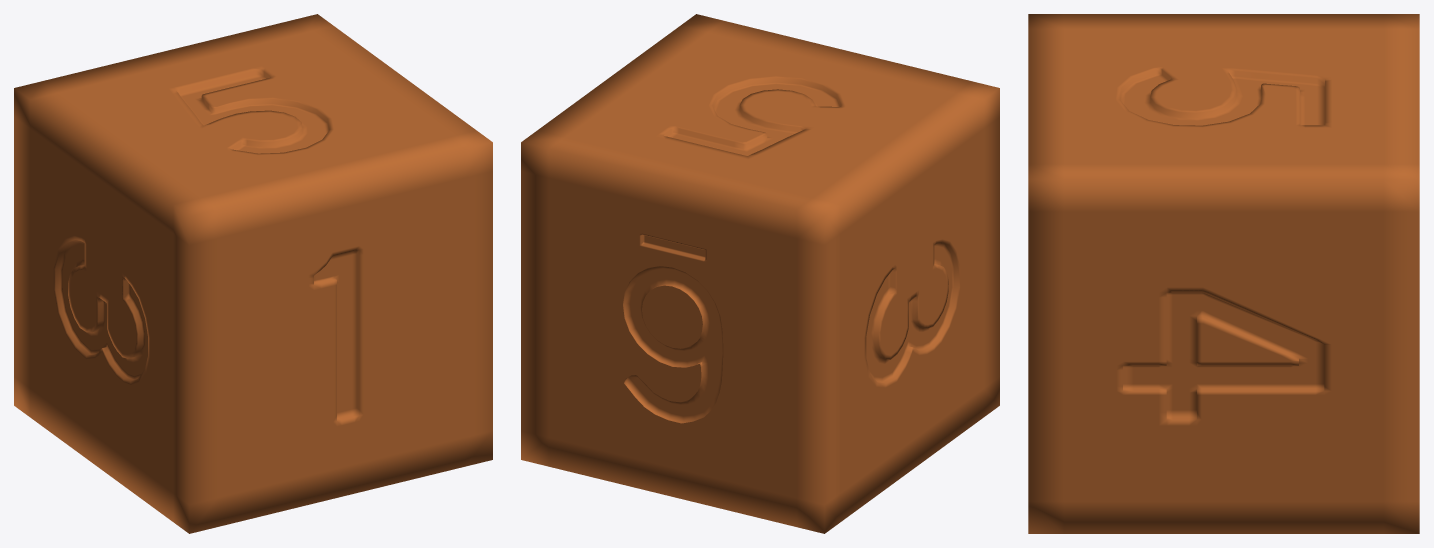
The model's file is die_6.glb.
The picture shows the model from 3 angles, left to right: view 1: azimuth 30°, elevation 25°; view 2: azimuth 150°, elevation 25°; view 3: azimuth 270°, elevation 25°; orthographic projection. The views are drawn at different scales.
Bounding box in the file's own units: 32767 × 32767 × 32767.
